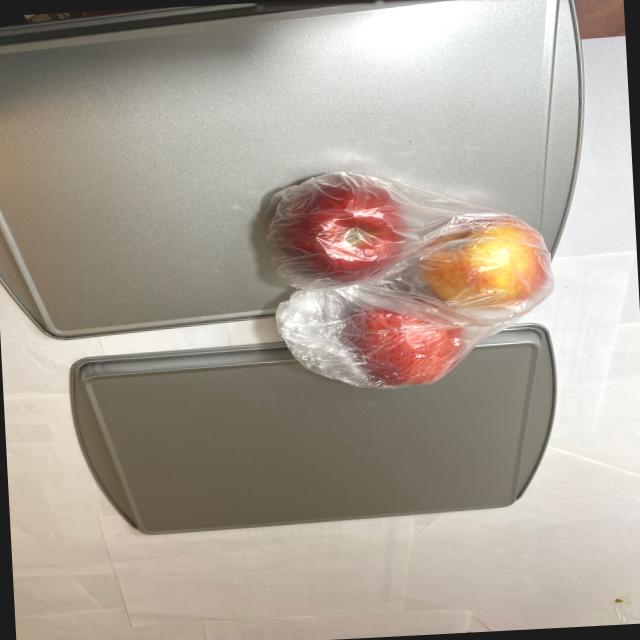apple: (264, 165, 558, 399)
